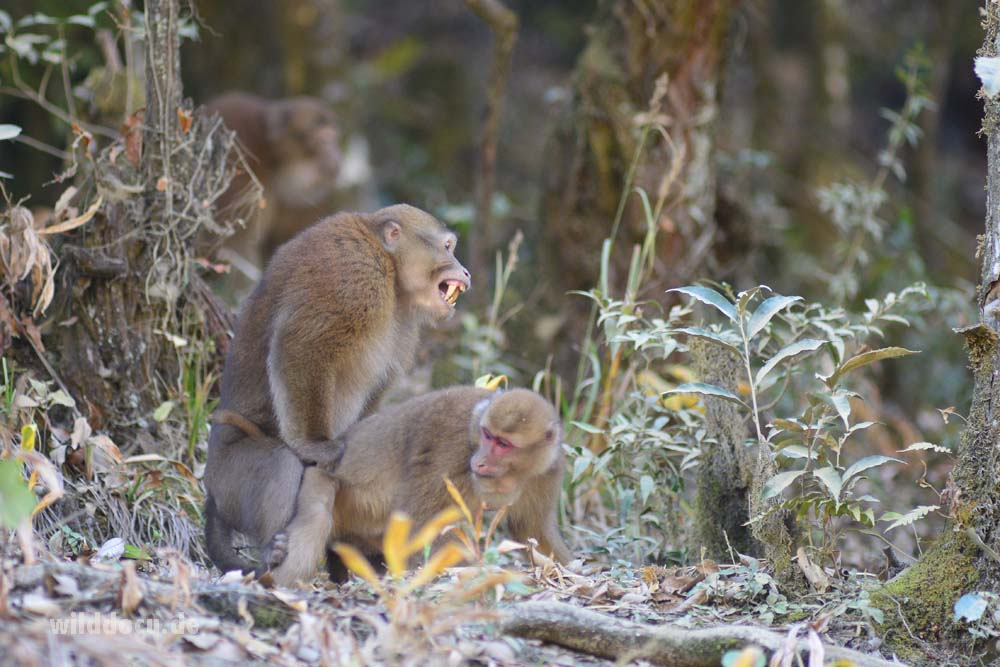monkey: (184, 198, 485, 594), (245, 371, 596, 604)
